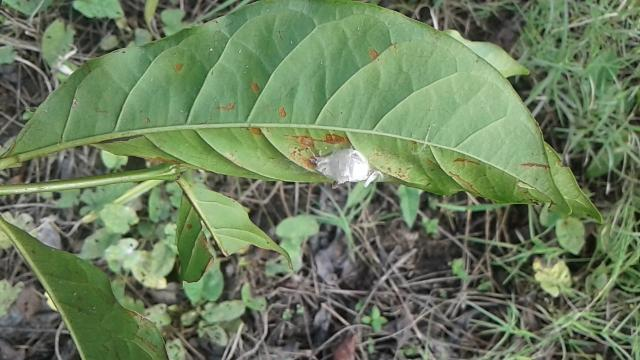red_spider_mite: (8, 0, 601, 218)
